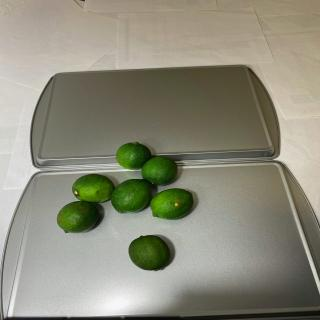Chilli: (56, 141, 195, 271)
Lemon: (128, 235, 170, 271), (111, 178, 152, 214), (150, 188, 193, 220), (57, 201, 99, 233), (72, 173, 115, 203), (141, 156, 178, 186), (116, 142, 151, 170)
